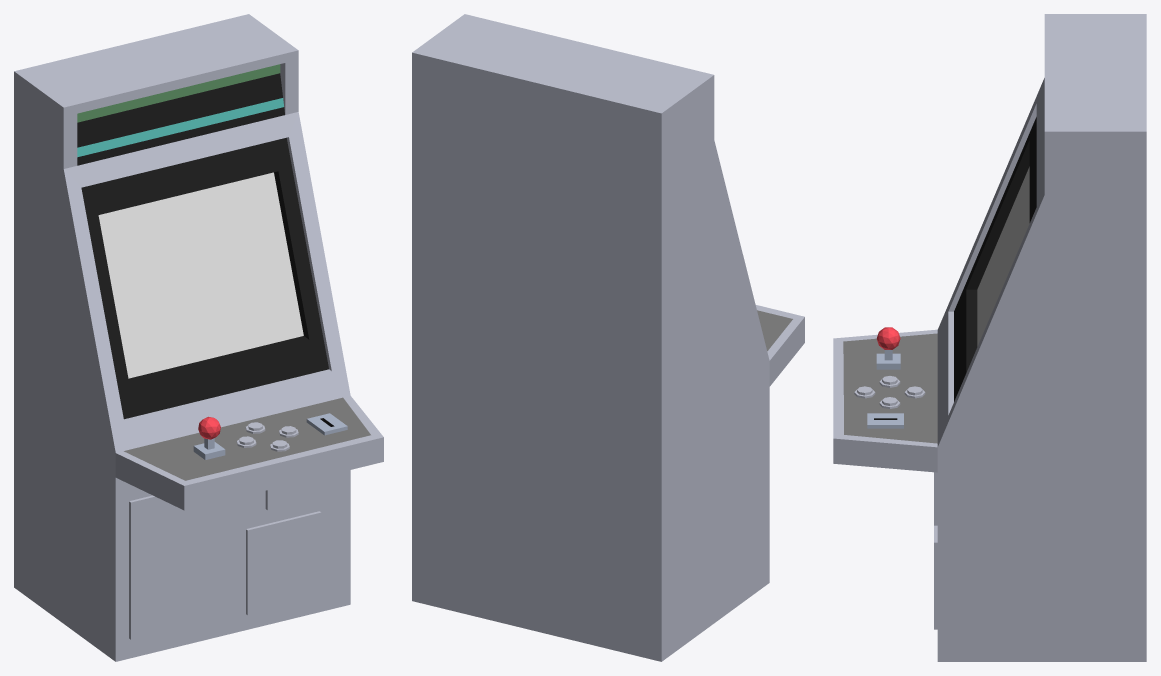
Rendered from game_kakutou.fbx.
The picture shows the model from 3 angles, left to right: view 1: azimuth 30°, elevation 25°; view 2: azimuth 150°, elevation 25°; view 3: azimuth 270°, elevation 25°; orthographic projection. The views are drawn at different scales.
Parts seen in each view (by area): view 1: kakutou, revar; view 2: kakutou; view 3: kakutou, revar.
Boxes of the visible parts, x1,y1,x2,y2 form: kakutou: (14, 14, 383, 661); revar: (193, 416, 225, 459); kakutou: (412, 14, 804, 661); kakutou: (833, 14, 1146, 661); revar: (876, 327, 900, 369).
Bounding box in the file's own units: 400 × 840 × 450.
